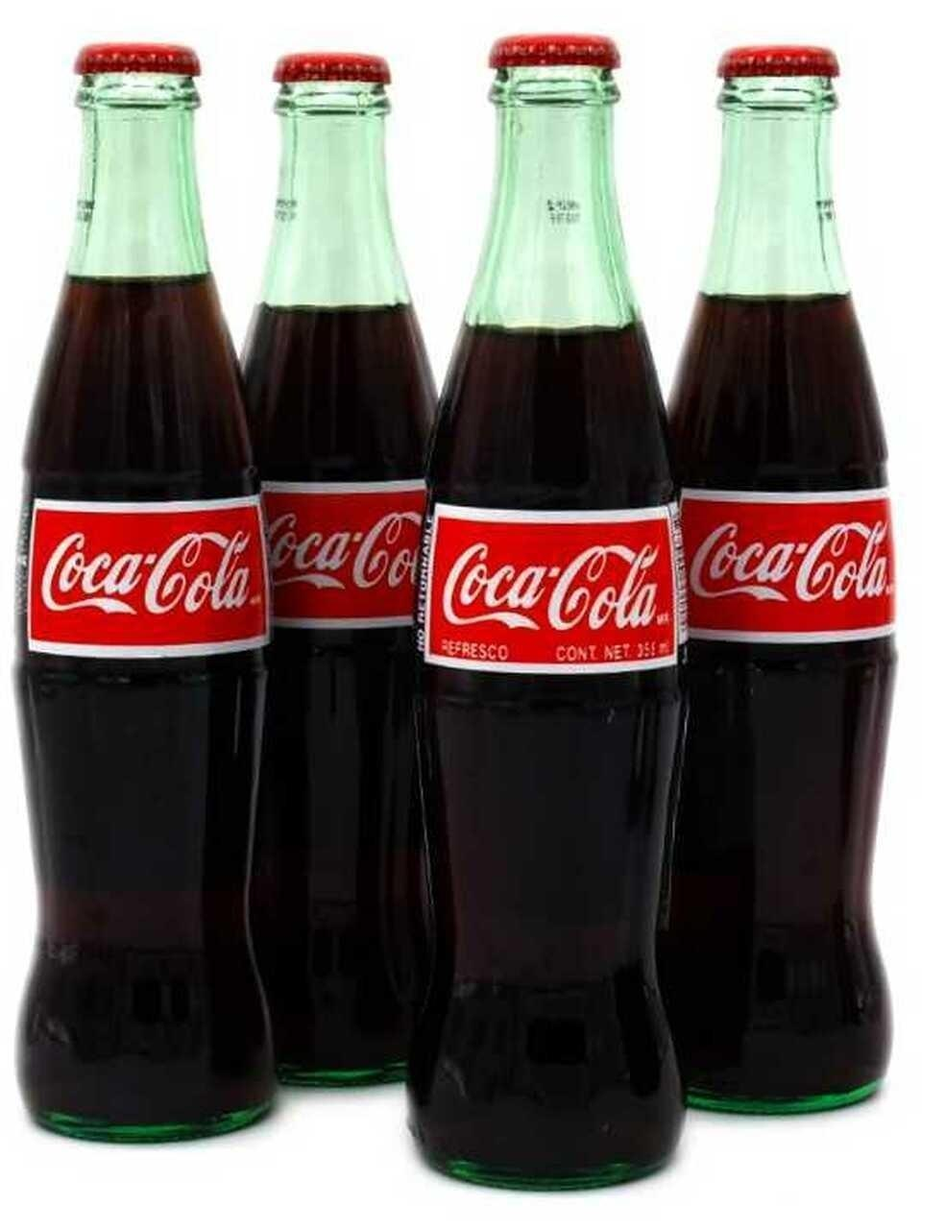bottle-glass: (402, 23, 695, 1196), (9, 36, 280, 1147), (648, 36, 906, 1124), (215, 42, 458, 1103)
